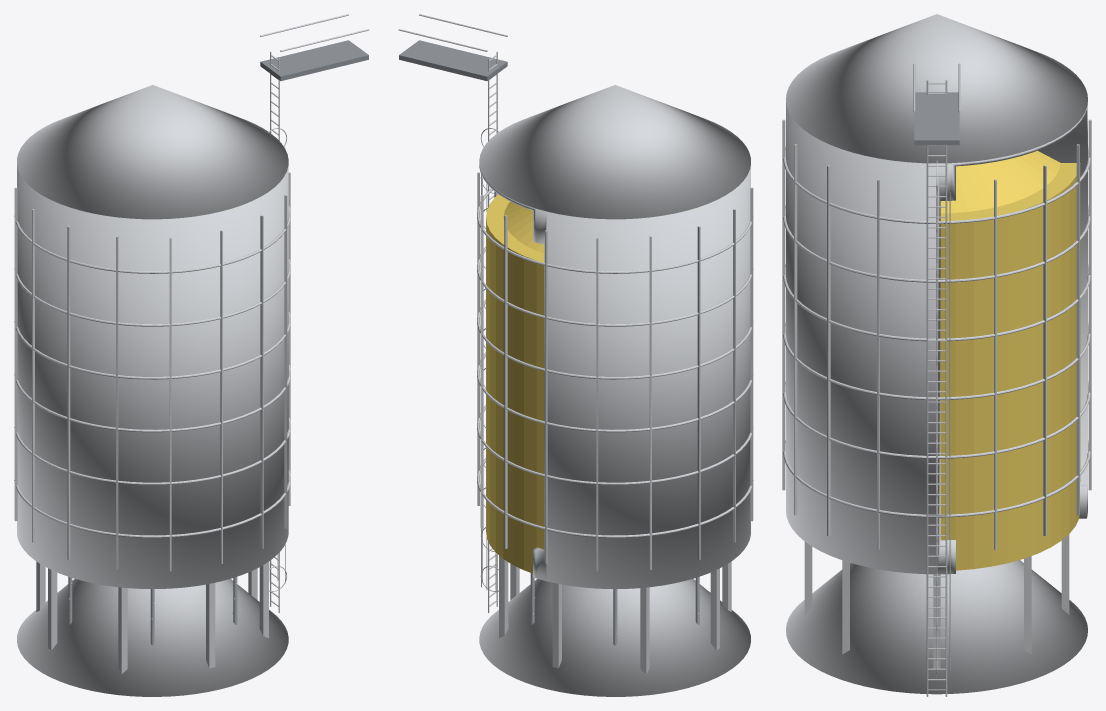
File: Silo pulmao.glb
3 views of the same model, side by side, from view 1: azimuth 30°, elevation 25°; view 2: azimuth 150°, elevation 25°; view 3: azimuth 270°, elevation 25° (orthographic). The views are drawn at different scales.
Visible parts, largest first — view 1: Costado_Cilindrico, Teto_Conico, Funil_Moega, Passarela_Plataforma, Enrijecedor_10, Enrijecedor_14, Enrijecedor_15, Enrijecedor_8, Anel_Horizontal_3, Anel_Horizontal_4, Enrijecedor_13, Enrijecedor_9 (+11 smaller); view 2: Costado_Cilindrico, Teto_Conico, Funil_Moega, Massa_Groos, Passarela_Plataforma, Enrijecedor_8, Enrijecedor_4, Enrijecedor_3, Enrijecedor_10, Angulo_Repouso, Anel_Horizontal_6, Anel_Horizontal_3 (+13 smaller); view 3: Costado_Cilindrico, Massa_Groos, Teto_Conico, Funil_Moega, Angulo_Repouso, Passarela_Plataforma, Trilho_Escada_Dir, Trilho_Escada_Esq, Enrijecedor_3, Enrijecedor_15, Enrijecedor_4, Enrijecedor_14 (+18 smaller).
Boxes of the visible parts, x1=… form: Costado_Cilindrico: x1=17, y1=165, x2=288, y2=588; Teto_Conico: x1=17, y1=85, x2=288, y2=219; Funil_Moega: x1=17, y1=579, x2=288, y2=696; Passarela_Plataforma: x1=260, y1=40, x2=368, y2=80; Enrijecedor_10: x1=67, y1=226, x2=70, y2=559; Enrijecedor_14: x1=260, y1=215, x2=263, y2=548; Enrijecedor_15: x1=284, y1=195, x2=287, y2=528; Enrijecedor_8: x1=14, y1=187, x2=17, y2=521; Anel_Horizontal_3: x1=14, y1=365, x2=290, y2=432; Anel_Horizontal_4: x1=14, y1=312, x2=290, y2=379; Enrijecedor_13: x1=220, y1=230, x2=222, y2=564; Enrijecedor_9: x1=32, y1=209, x2=34, y2=542; Costado_Cilindrico: x1=479, y1=165, x2=750, y2=588; Teto_Conico: x1=479, y1=85, x2=750, y2=219; Funil_Moega: x1=479, y1=579, x2=750, y2=696; Massa_Groos: x1=486, y1=194, x2=544, y2=573; Passarela_Plataforma: x1=399, y1=40, x2=507, y2=80; Enrijecedor_8: x1=697, y1=226, x2=700, y2=559; Enrijecedor_4: x1=504, y1=215, x2=507, y2=548; Enrijecedor_3: x1=480, y1=195, x2=483, y2=528; Enrijecedor_10: x1=750, y1=187, x2=753, y2=521; Angulo_Repouso: x1=503, y1=201, x2=544, y2=253; Anel_Horizontal_6: x1=477, y1=188, x2=753, y2=273; Anel_Horizontal_3: x1=477, y1=352, x2=753, y2=432; Costado_Cilindrico: x1=786, y1=102, x2=1087, y2=574; Massa_Groos: x1=940, y1=163, x2=1080, y2=570; Teto_Conico: x1=786, y1=14, x2=1087, y2=163; Funil_Moega: x1=786, y1=560, x2=1087, y2=694; Angulo_Repouso: x1=940, y1=150, x2=1060, y2=213; Passarela_Plataforma: x1=914, y1=92, x2=959, y2=145; Trilho_Escada_Dir: x1=945, y1=80, x2=947, y2=696; Trilho_Escada_Esq: x1=926, y1=80, x2=928, y2=696; Enrijecedor_3: x1=1043, y1=165, x2=1046, y2=536; Enrijecedor_15: x1=827, y1=165, x2=830, y2=536; Enrijecedor_4: x1=1076, y1=144, x2=1079, y2=515; Enrijecedor_14: x1=794, y1=144, x2=797, y2=515.
Bounding box in the file's own units: 11.09 × 18.57 × 8.18.
